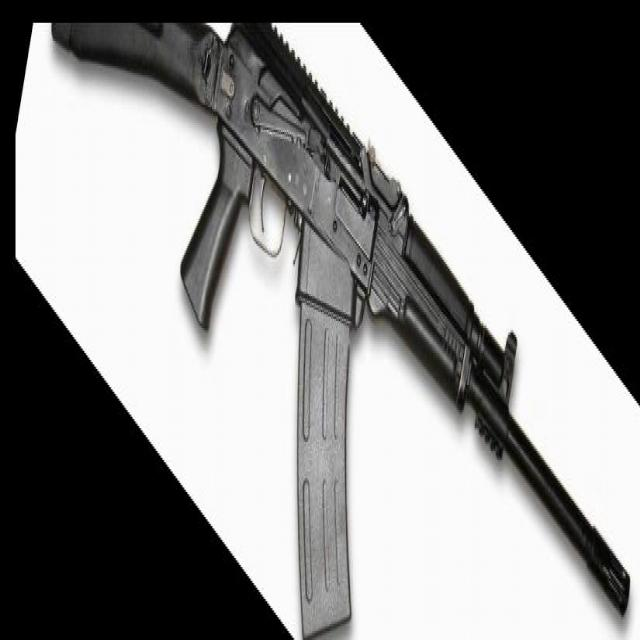heavy-weapon: (50, 26, 632, 640)
